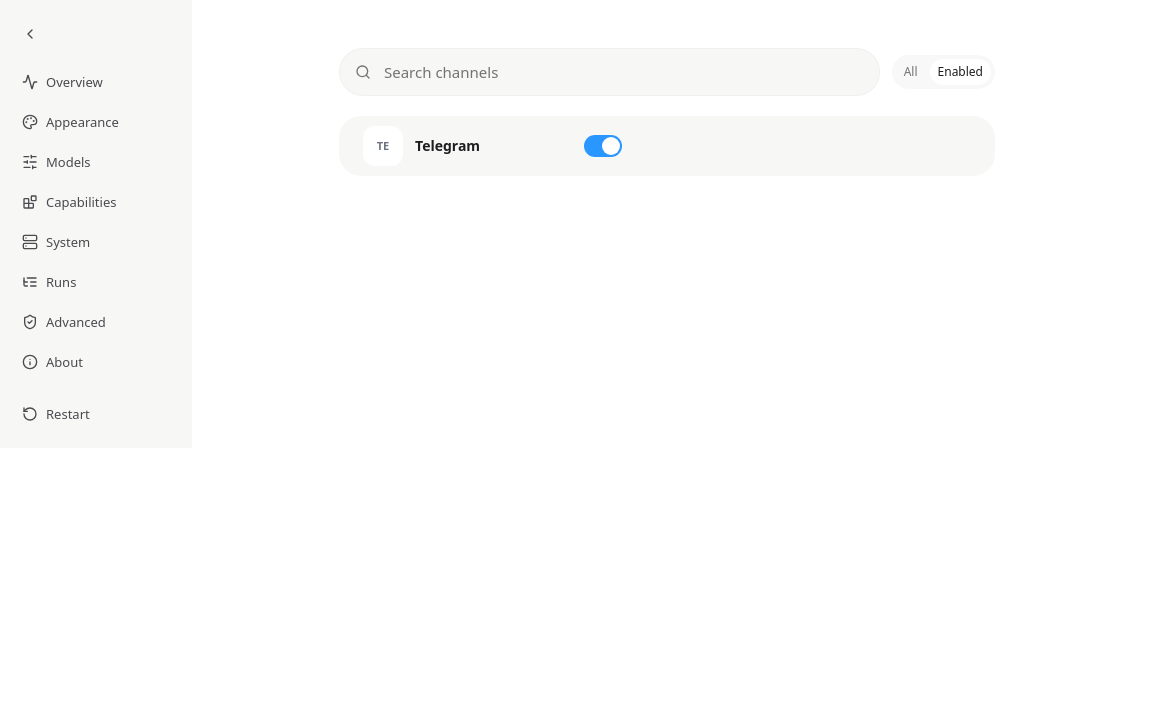
Scenario: Settings channels › reveals Telegram connection checks before confirming the identity
Click the button with aria-label "View Telegram settings".
click(461, 146)  # box [363,126,559,166]
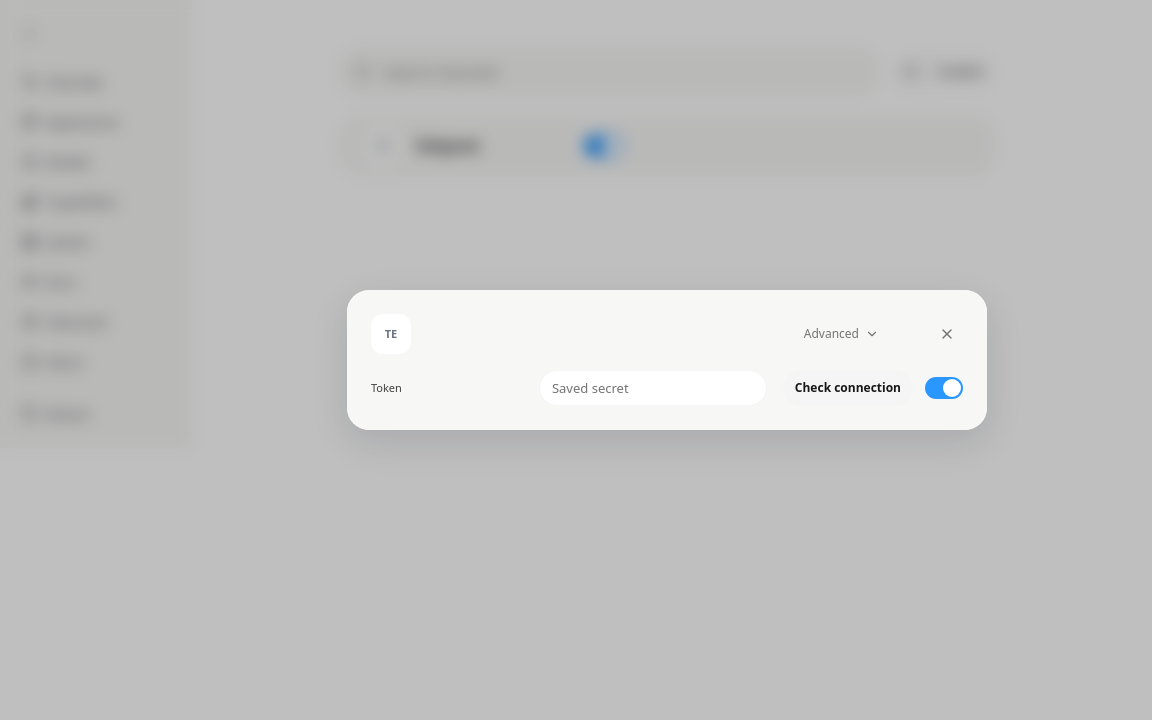
Click the button "Check connection".
click(848, 388)  # box [783,370,913,406]
Wait 520 ms
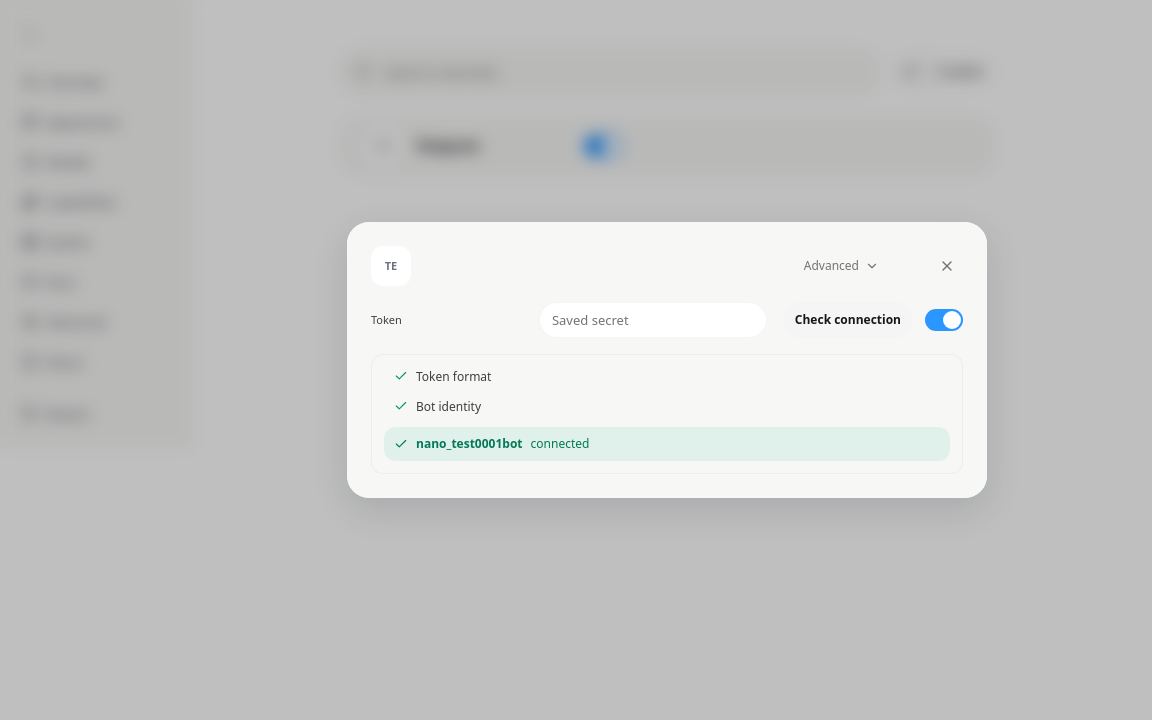
Check: the message "Token format Bot identity nano_test0001bot Connected" is shown, box [371,354,963,474]
Check: the text "Token format" is shown, box [416,367,491,387]
Check: the text "Bot identity" is shown, box [416,397,481,417]
